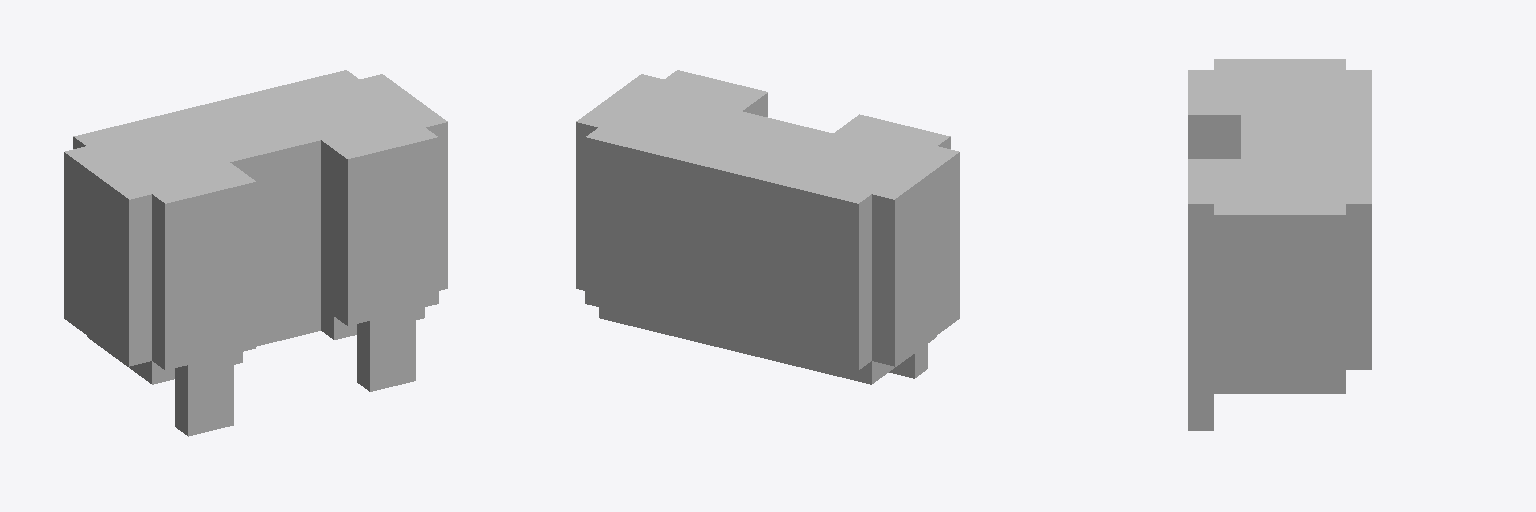
Rendered from belly modeling.obj.
3 renders of one model, left to right at view 1: azimuth 30°, elevation 25°; view 2: azimuth 150°, elevation 25°; view 3: azimuth 270°, elevation 25°, orthographic.
Parts seen in each view (by area): view 1: object 1; view 2: object 1; view 3: object 1.
Boxes of the visible parts, x1=… form: object 1: x1=64, y1=70, x2=447, y2=436; object 1: x1=576, y1=70, x2=959, y2=384; object 1: x1=1188, y1=59, x2=1371, y2=430.
Bounding box in the file's own units: 1.4 × 1 × 0.7.